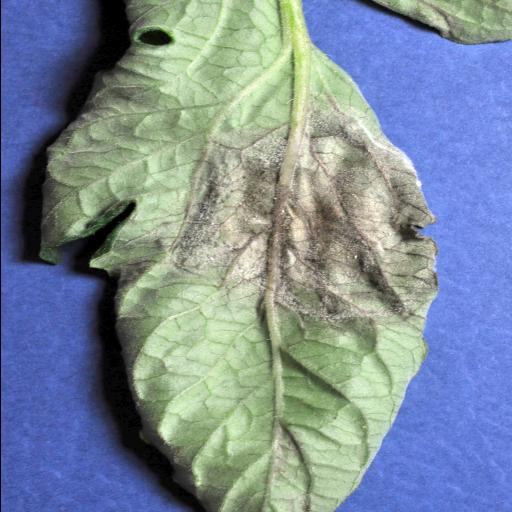disease_tomato: (8, 4, 428, 512)
